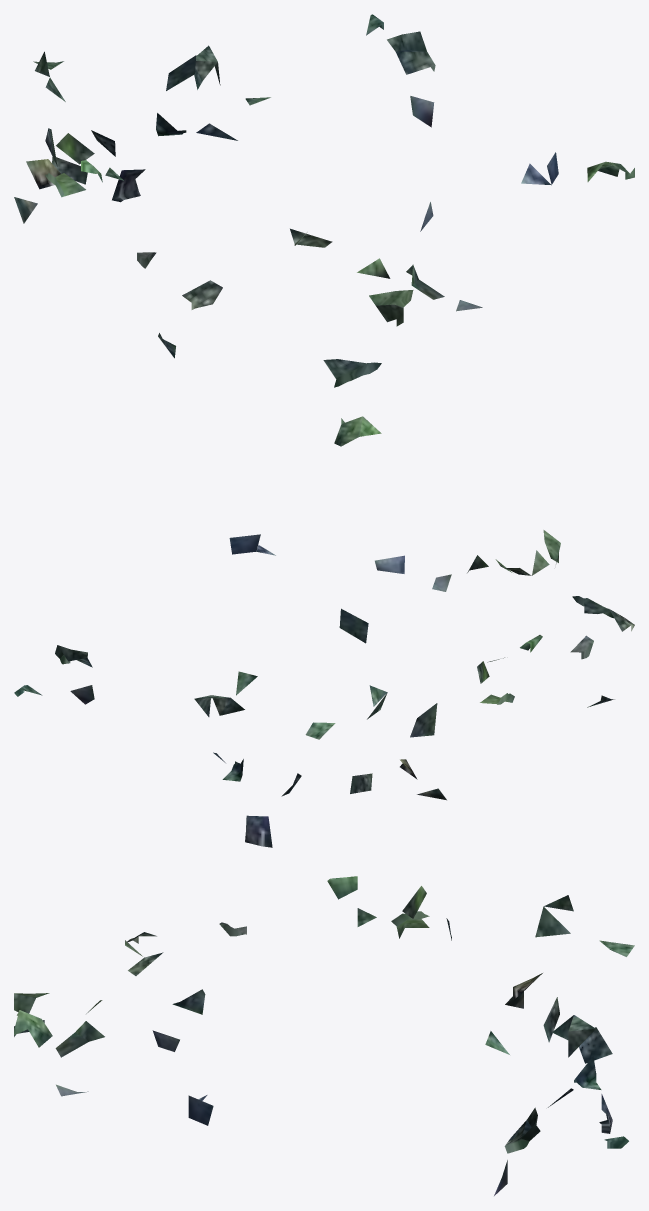
3 views of the same model, one above another, from view 1: azimuth 30°, elevation 25°; view 2: azimuth 150°, elevation 25°; view 3: azimuth 270°, elevation 25° (orthographic). The views are drawn at different scales.
Parts seen in each view (by area): view 1: 30436272704361635634_1; view 2: 30436272704361635634_1; view 3: 30436272704361635634_1.
Part boxes in pixels (x1,y1,x2,y2): 30436272704361635634_1: (14,14,634,387); 30436272704361635634_1: (14,416,634,847); 30436272704361635634_1: (14,876,634,1195).
Bounding box in the file's own units: 27.3 × 12.63 × 34.55.
Materials: 1 (1 with a texture image).
